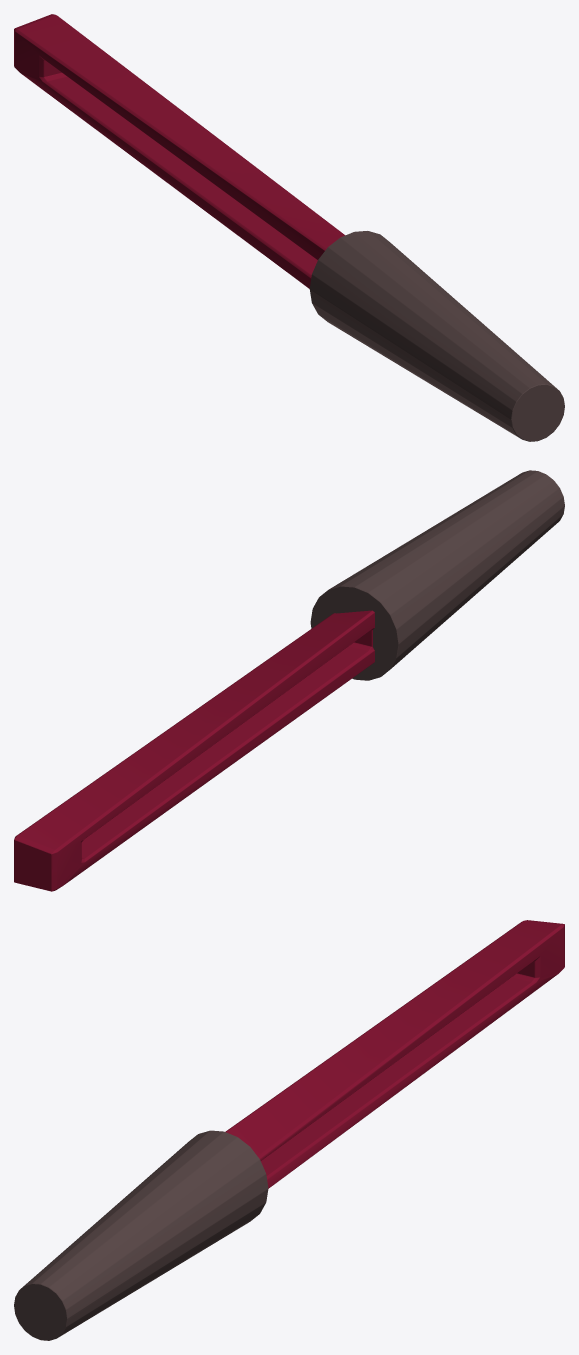
Rendered from raveStick.fbx.
3 views of the same model, one above another, from view 1: azimuth 30°, elevation 25°; view 2: azimuth 150°, elevation 25°; view 3: azimuth 330°, elevation 25° (orthographic).
Visible parts, largest first — view 1: polySurface5, polySurface4; view 2: polySurface5, polySurface4; view 3: polySurface5, polySurface4.
Boxes of the visible parts, bbox=[...] form: polySurface5: bbox=[14, 14, 345, 288]; polySurface4: bbox=[309, 231, 564, 441]; polySurface5: bbox=[14, 610, 374, 891]; polySurface4: bbox=[310, 470, 564, 680]; polySurface5: bbox=[225, 920, 564, 1188]; polySurface4: bbox=[14, 1130, 268, 1340].
Size of the model in its own units: 5.58 by 5.58 by 55.1.
